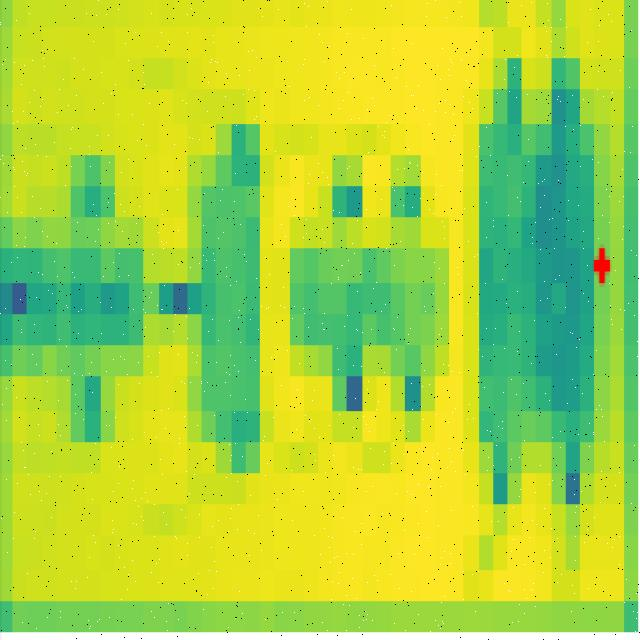Concrete: (291, 246, 452, 359)
Glass: (198, 184, 266, 440)
Metal: (477, 125, 593, 438)
Wood: (5, 219, 146, 378)
